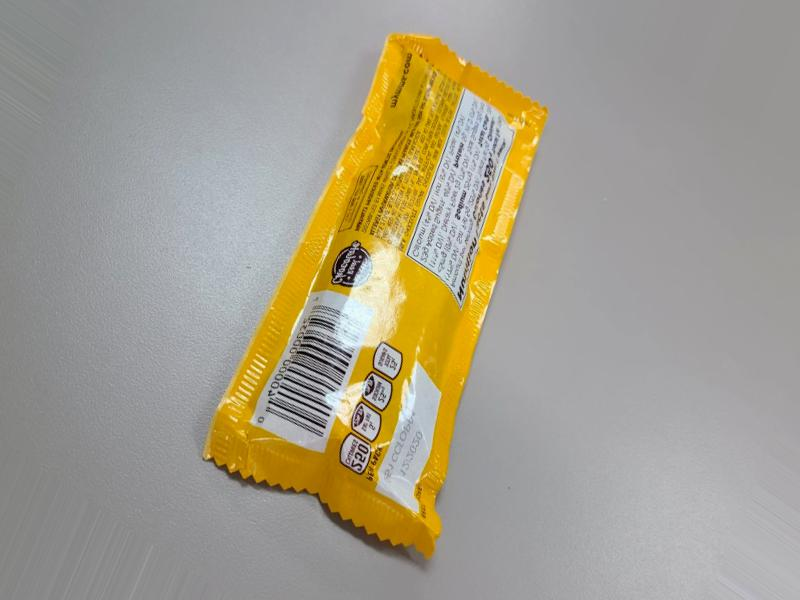m&m: (229, 15, 502, 559)
